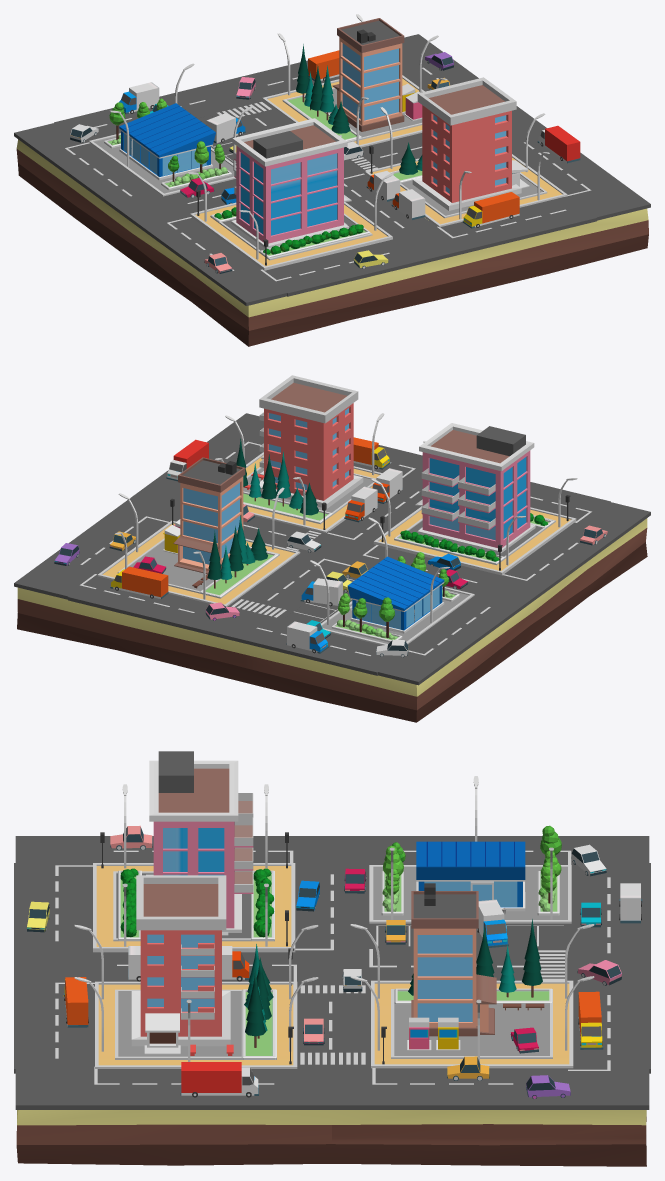
File: MiniCity.glb
The picture shows the model from 3 angles, top to bottom: view 1: azimuth 30°, elevation 25°; view 2: azimuth 150°, elevation 25°; view 3: azimuth 270°, elevation 25°; orthographic projection. The views are drawn at different scales.
Visible parts, largest first — view 1: ROAD, Floor_6, House, House_2, House_3, Shop, Floor, ROAD_Lines_12, Floor_4_4, Floor_2, Car_08_3, Floor_3 (+11 smaller); view 2: ROAD, Floor_6, House, House_2, House_3, Shop, Floor, Floor_3, ROAD_Lines_12, Floor_4_4, Floor_4_3, Car_08_5 (+14 smaller); view 3: ROAD, Floor_6, House_2, House, House_3, Shop, Floor_3, Floor_4_3, Floor, Floor_2, ROAD_Lines_12, Floor_4_4 (+26 smaller).
Boxes of the visible parts, x1,y1,x2,y2 form: ROAD: (14,34,650,305); Floor_6: (16,139,648,346); House: (231,118,351,248); House_2: (412,77,529,210); House_3: (332,18,404,131); Shop: (119,103,215,180); Floor: (190,202,392,270); ROAD_Lines_12: (65,67,591,281); Floor_4_4: (89,133,236,196); Floor_2: (365,154,567,227); Car_08_3: (462,192,519,228); Floor_3: (262,75,424,147); ROAD: (14,413,650,685); Floor_6: (17,518,647,722); House: (415,423,535,553); House_2: (259,375,363,508); House_3: (173,457,245,573); Shop: (347,556,444,633); Floor: (373,506,576,575); Floor_3: (97,520,300,606); ROAD_Lines_12: (80,441,591,655); Floor_4_4: (321,586,474,645); Floor_4_3: (117,538,279,598); Car_08_5: (110,566,168,598); ROAD: (14,836,650,1109); Floor_6: (16,1110,646,1166); House_2: (131,875,230,1054); House: (146,751,253,935); House_3: (411,883,496,1036); Shop: (416,841,525,911); Floor_3: (371,980,573,1068); Floor_4_3: (391,989,552,1058); Floor: (93,863,295,952); Floor_2: (95,981,297,1068); ROAD_Lines_12: (55,850,610,1084); Floor_4_4: (369,865,571,923).
Bounding box in the file's own units: 5.05 × 1.72 × 5.05.
8 materials, 8 textured.
